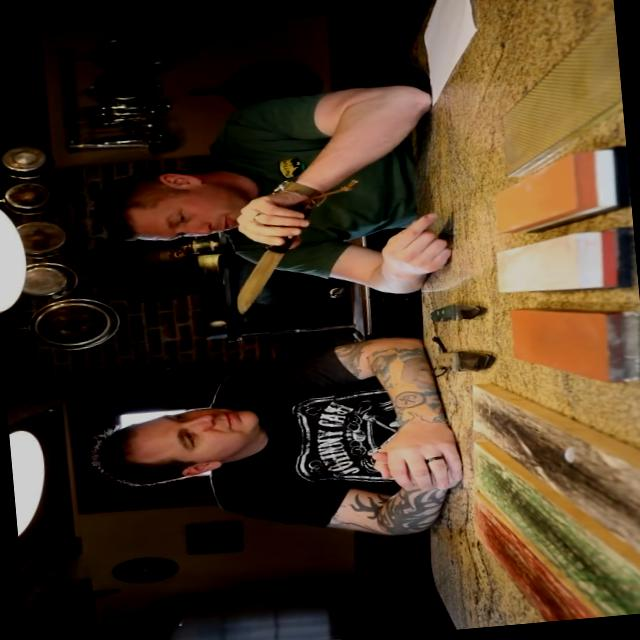knife: (210, 208, 321, 324)
